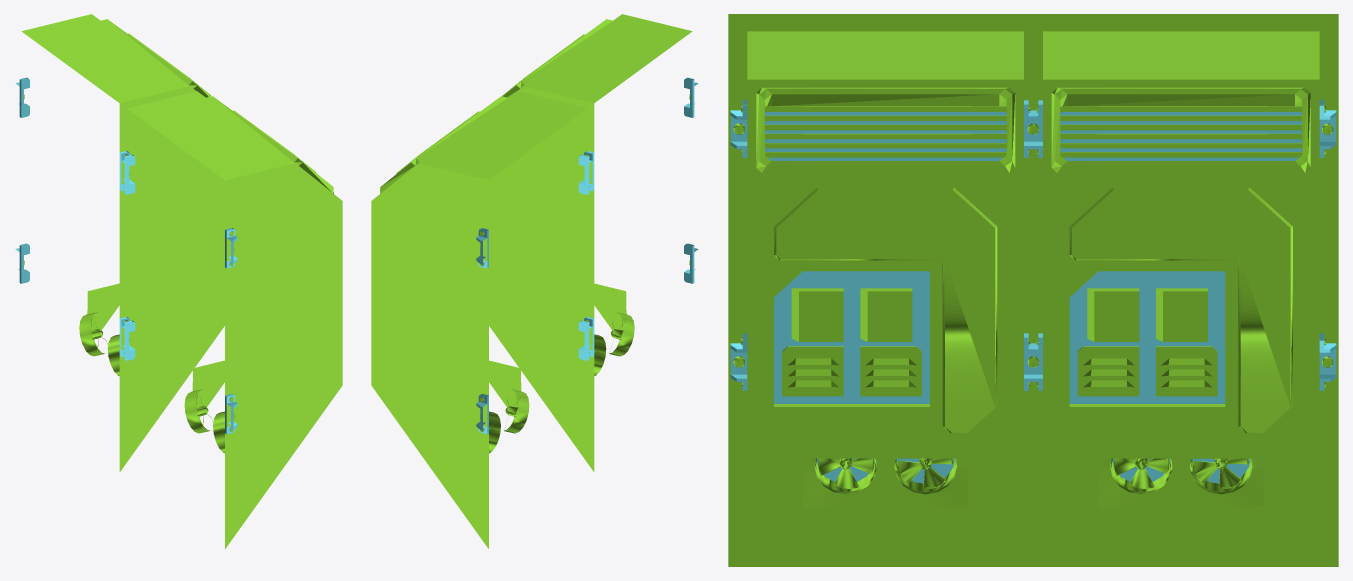
The model's file is uee_stanton_kit_ext_wall_0x8x8_08_reg.glb.
3 views of the same model, side by side, from view 1: azimuth 30°, elevation 25°; view 2: azimuth 150°, elevation 25°; view 3: azimuth 270°, elevation 25° (orthographic). The views are drawn at different scales.
Bounding box in the file's own units: 2.53 × 8 × 8.
